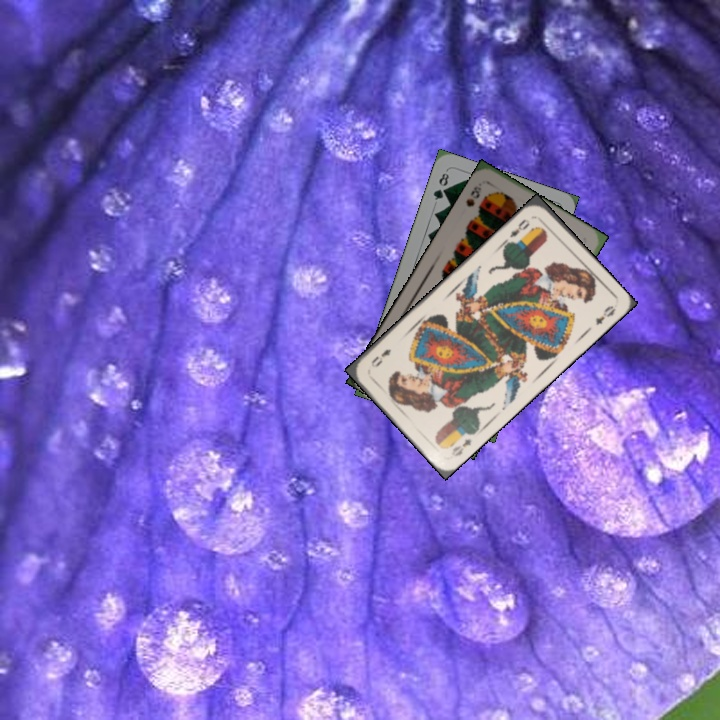EO: (505, 215, 532, 240), (447, 435, 474, 459)
G8: (429, 169, 451, 203)
S8: (462, 182, 484, 210)
